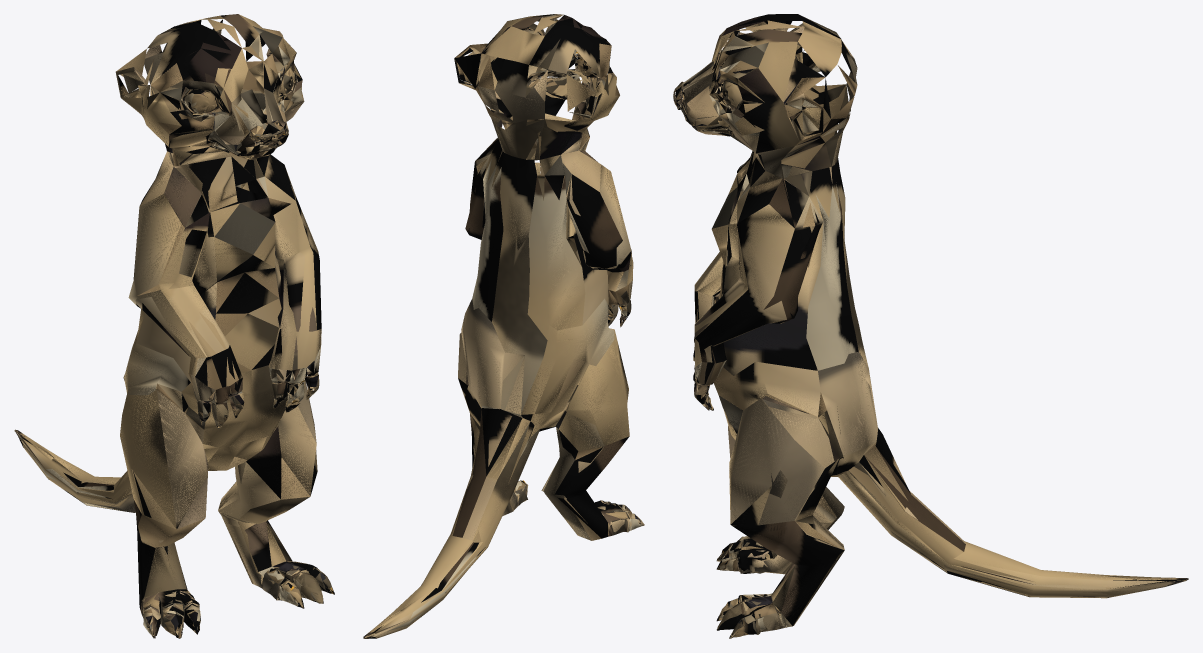
File: creature_meerkat.fbx
The picture shows the model from 3 angles, left to right: view 1: azimuth 30°, elevation 25°; view 2: azimuth 150°, elevation 25°; view 3: azimuth 270°, elevation 25°; orthographic projection. The views are drawn at different scales.
Parts seen in each view (by area): view 1: creature_meerkat_body, creature_meerkat_head, creature_meerkat_leg_fr, creature_meerkat_leg_fl, creature_meerkat_leg_bl, creature_meerkat_leg_br, creature_meerkat_tail; view 2: creature_meerkat_body, creature_meerkat_head, creature_meerkat_leg_fr, creature_meerkat_leg_br, creature_meerkat_leg_fl, creature_meerkat_tail, creature_meerkat_leg_bl; view 3: creature_meerkat_body, creature_meerkat_leg_fl, creature_meerkat_head, creature_meerkat_leg_bl, creature_meerkat_tail, creature_meerkat_leg_br, creature_meerkat_leg_fr.
Part boxes in pixels (left/top/right/bottom): creature_meerkat_body: left=120, top=145, right=320, bottom=529; creature_meerkat_head: left=115, top=14, right=304, bottom=166; creature_meerkat_leg_fr: left=128, top=179, right=252, bottom=389; creature_meerkat_leg_fl: left=201, top=168, right=321, bottom=370; creature_meerkat_leg_bl: left=218, top=450, right=334, bottom=608; creature_meerkat_leg_br: left=79, top=469, right=207, bottom=638; creature_meerkat_tail: left=14, top=429, right=120, bottom=510; creature_meerkat_body: left=458, top=118, right=632, bottom=482; creature_meerkat_head: left=454, top=14, right=619, bottom=160; creature_meerkat_leg_fr: left=527, top=164, right=633, bottom=339; creature_meerkat_leg_br: left=443, top=403, right=644, bottom=590; creature_meerkat_leg_fl: left=465, top=143, right=568, bottom=321; creature_meerkat_tail: left=363, top=534, right=485, bottom=638; creature_meerkat_leg_bl: left=450, top=410, right=528, bottom=537; creature_meerkat_body: left=693, top=131, right=910, bottom=525; creature_meerkat_leg_fl: left=694, top=184, right=858, bottom=375; creature_meerkat_head: left=673, top=14, right=857, bottom=177; creature_meerkat_leg_bl: left=716, top=447, right=1033, bottom=638; creature_meerkat_tail: left=949, top=541, right=1188, bottom=598; creature_meerkat_leg_br: left=716, top=487, right=965, bottom=574; creature_meerkat_leg_fr: left=694, top=163, right=833, bottom=322.
Bounding box in the file's own units: 161 × 482 × 394.
Materials: 1 (1 with a texture image).
